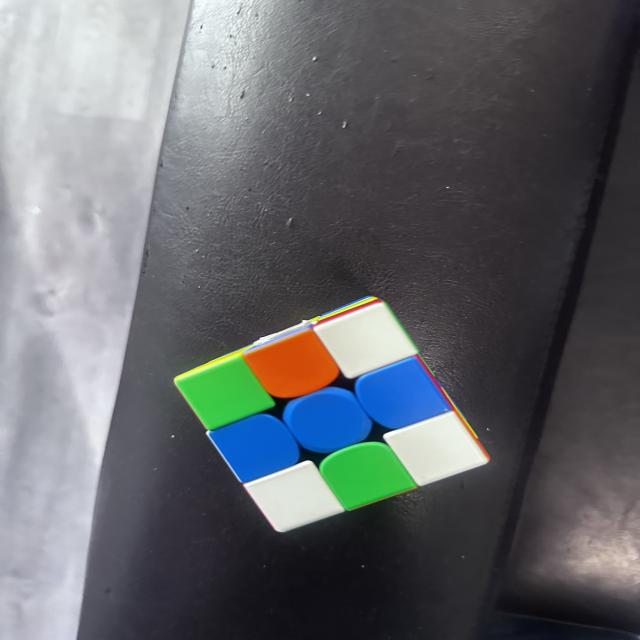sticker: (382, 410, 492, 489), (312, 300, 418, 381), (174, 354, 274, 432), (244, 459, 346, 532), (242, 327, 340, 399), (355, 358, 450, 430), (318, 441, 414, 512), (208, 413, 300, 483), (282, 388, 373, 455)
